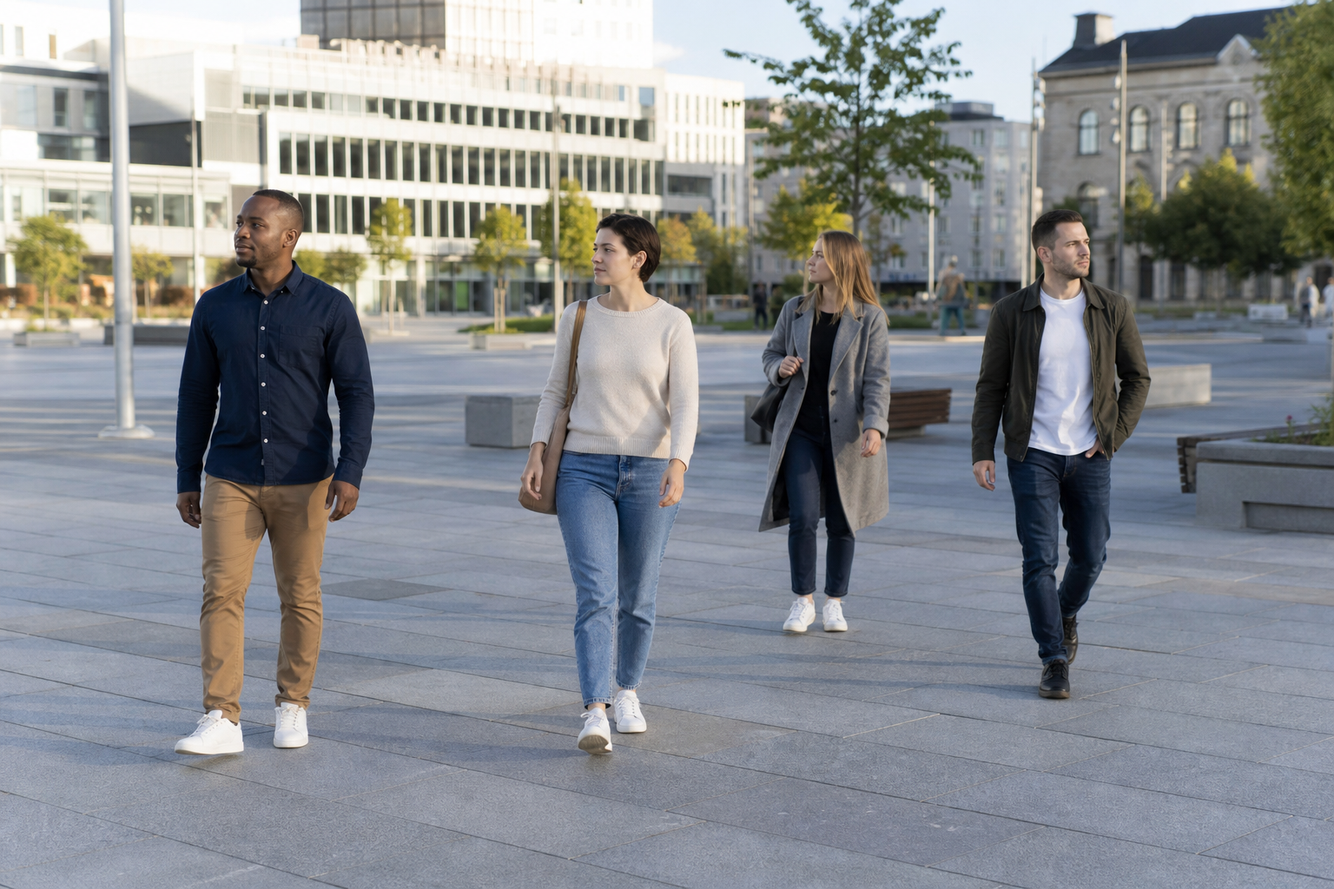person: (174, 191, 374, 752), (520, 206, 699, 757), (970, 205, 1149, 706), (759, 229, 891, 639), (935, 256, 969, 337), (1298, 276, 1321, 328), (752, 282, 769, 331), (768, 285, 784, 328), (1321, 276, 1334, 323)
